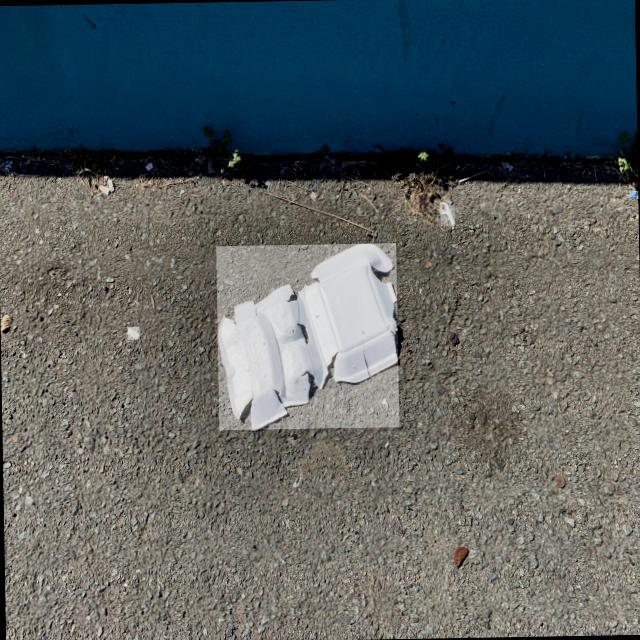Cigarette: (97, 156, 103, 173)
Food container: (217, 244, 397, 429)
Other plastic bottle: (459, 171, 492, 183), (440, 202, 453, 226), (127, 328, 139, 339)
Unlabeled litter: (334, 159, 341, 173), (201, 148, 212, 156), (629, 191, 638, 198)
